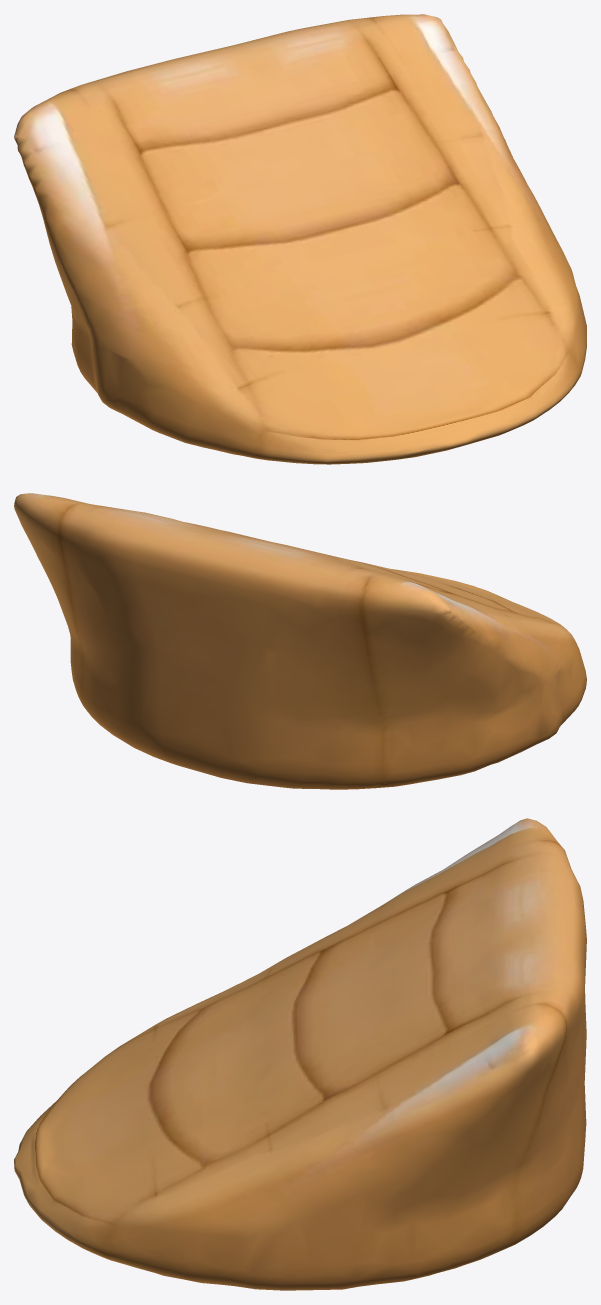
Rendered from ramp.glb.
3 views of the same model, one above another, from view 1: azimuth 30°, elevation 25°; view 2: azimuth 150°, elevation 25°; view 3: azimuth 270°, elevation 25° (orthographic). The views are drawn at different scales.
Parts seen in each view (by area): view 1: prop; view 2: prop; view 3: prop.
Boxes of the visible parts, left/top/right/bottom form: prop: left=14, top=14, right=586, bottom=464; prop: left=14, top=493, right=586, bottom=789; prop: left=14, top=818, right=586, bottom=1290.
Bounding box in the file's own units: 3.06 × 1.5 × 3.
Materials: 1 (1 with a texture image).
